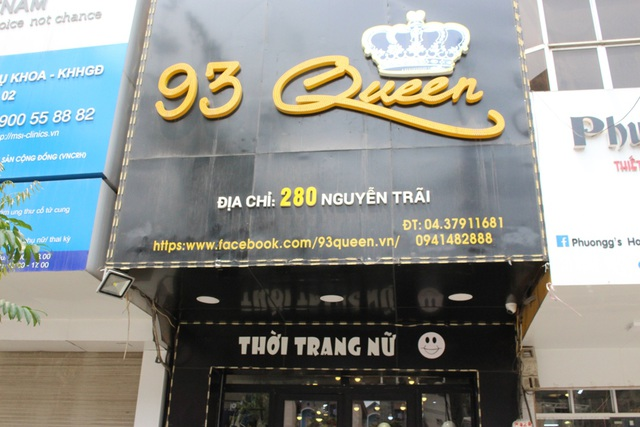banner: (121, 2, 555, 262)
